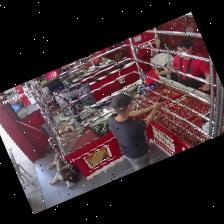person: (108, 93, 162, 170), (171, 55, 210, 80)
